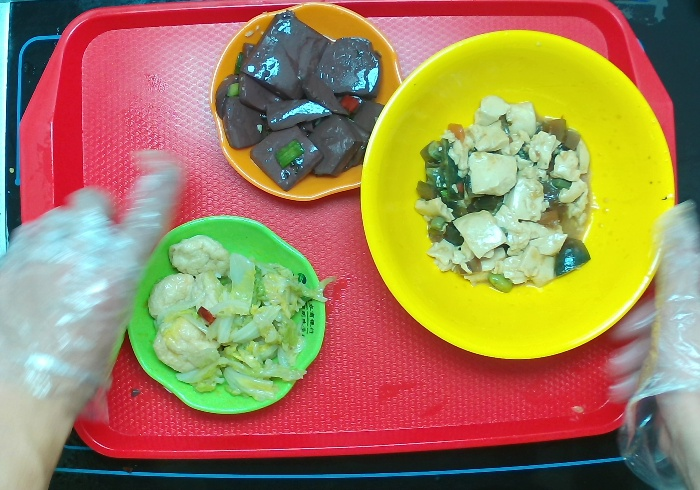YKMZ-Huang_Se_Tang_Wan: (357, 29, 677, 360)
YKMZ-Ju_Se_Ao_Bian_Wan: (211, 3, 405, 203)
YKMZ-Lv_Se_Ao_Bian_Wan: (125, 216, 329, 415)
